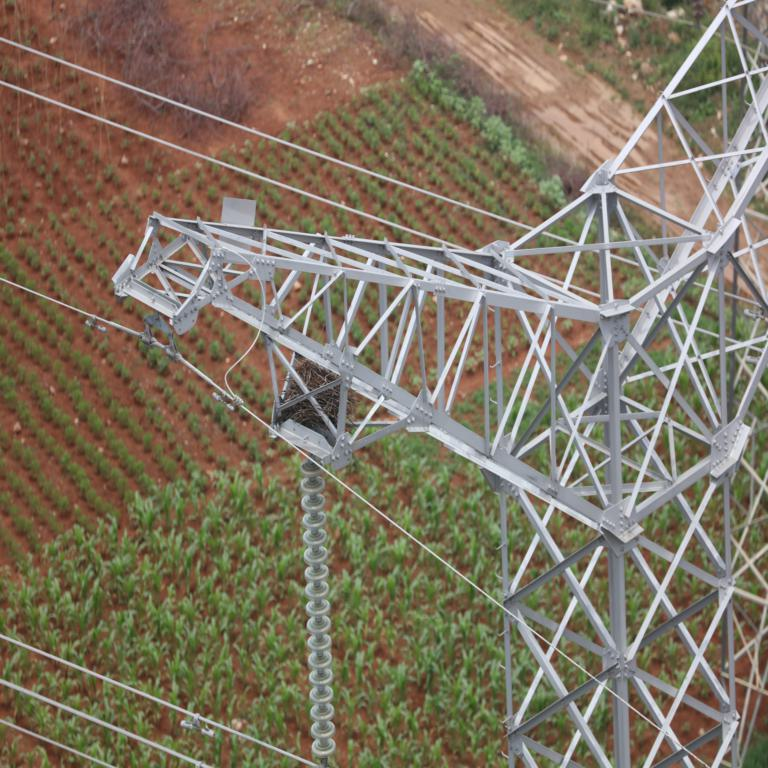nest: (281, 361, 347, 428)
